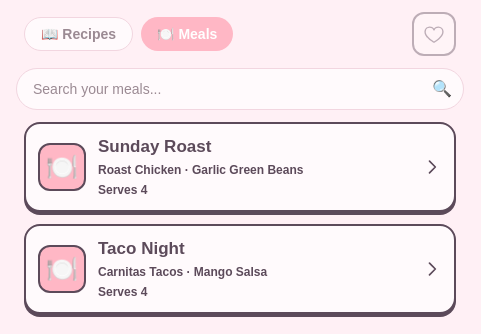
Meals tab search (issue #904) › finds a meal by its title
Type "taco" into the field with placeholder "Search your meals...".
click(240, 89); type("taco")  # box [16,68,464,110]
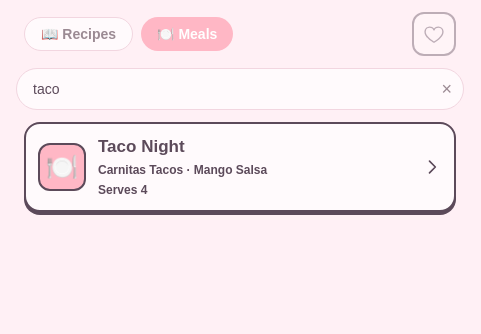
Expected: the list item shows "Taco Night", [26,124,454,210]
Expected: the number of list items is 1, [24,122,456,212]
